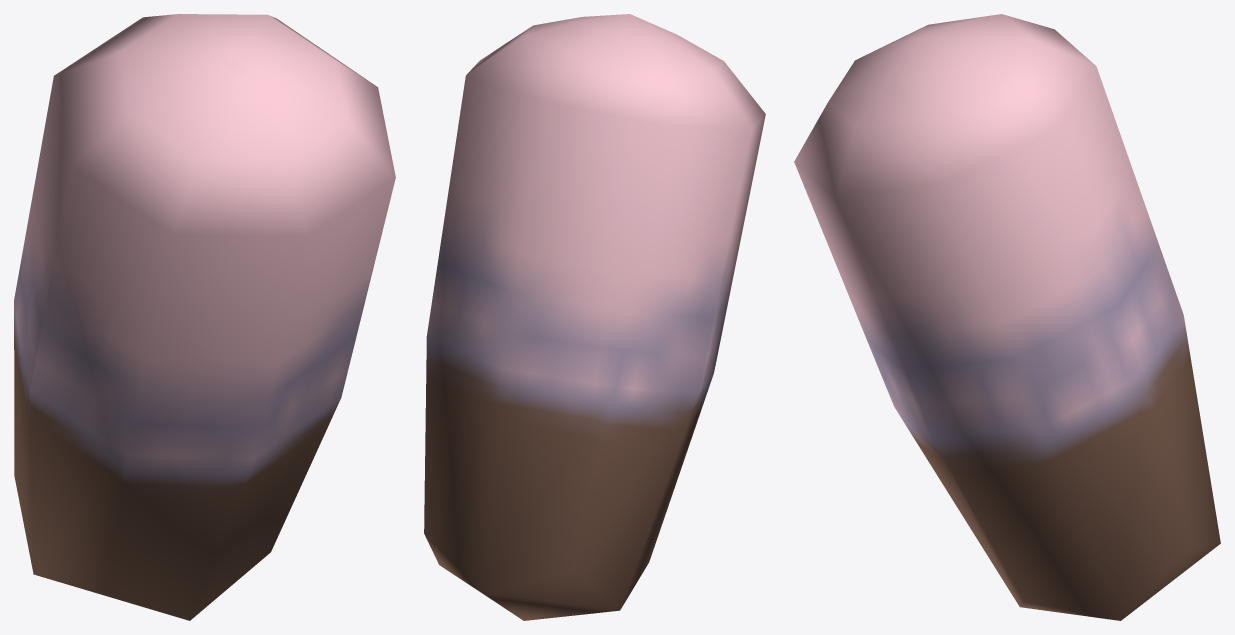
Rendered from LowerLeftArm.fbx.
3 views of the same model, side by side, from view 1: azimuth 30°, elevation 25°; view 2: azimuth 150°, elevation 25°; view 3: azimuth 270°, elevation 25° (orthographic). The views are drawn at different scales.
Visible parts, largest first — view 1: LowerLeftArm; view 2: LowerLeftArm; view 3: LowerLeftArm.
Boxes of the visible parts, left/top/right/bottom form: LowerLeftArm: left=14, top=14, right=395, bottom=620; LowerLeftArm: left=424, top=14, right=765, bottom=620; LowerLeftArm: left=794, top=14, right=1220, bottom=620.
Size of the model in its own units: 101 by 191 by 130.
